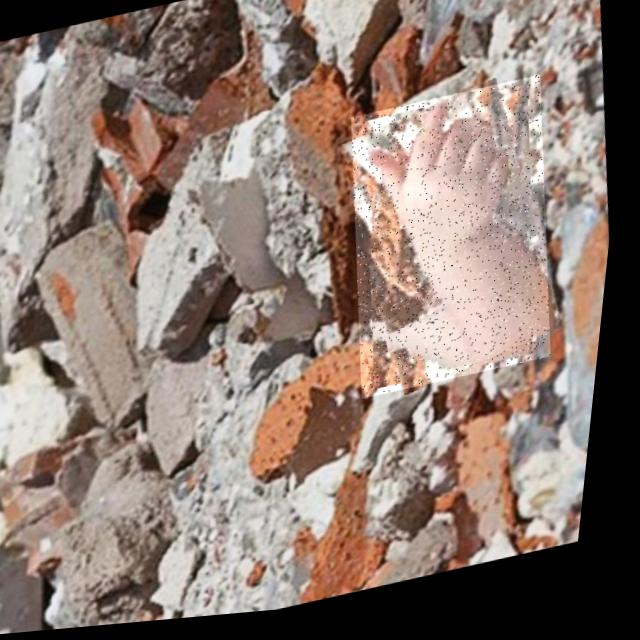Person in Rubble: (332, 82, 583, 408)
